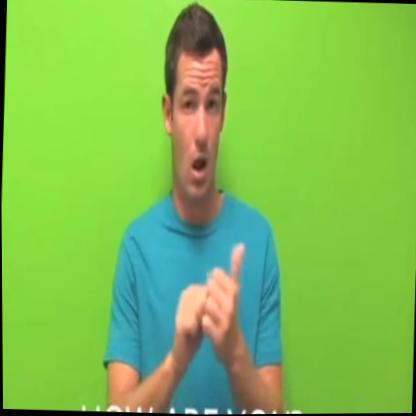HowAreYou: (150, 243, 263, 374)
